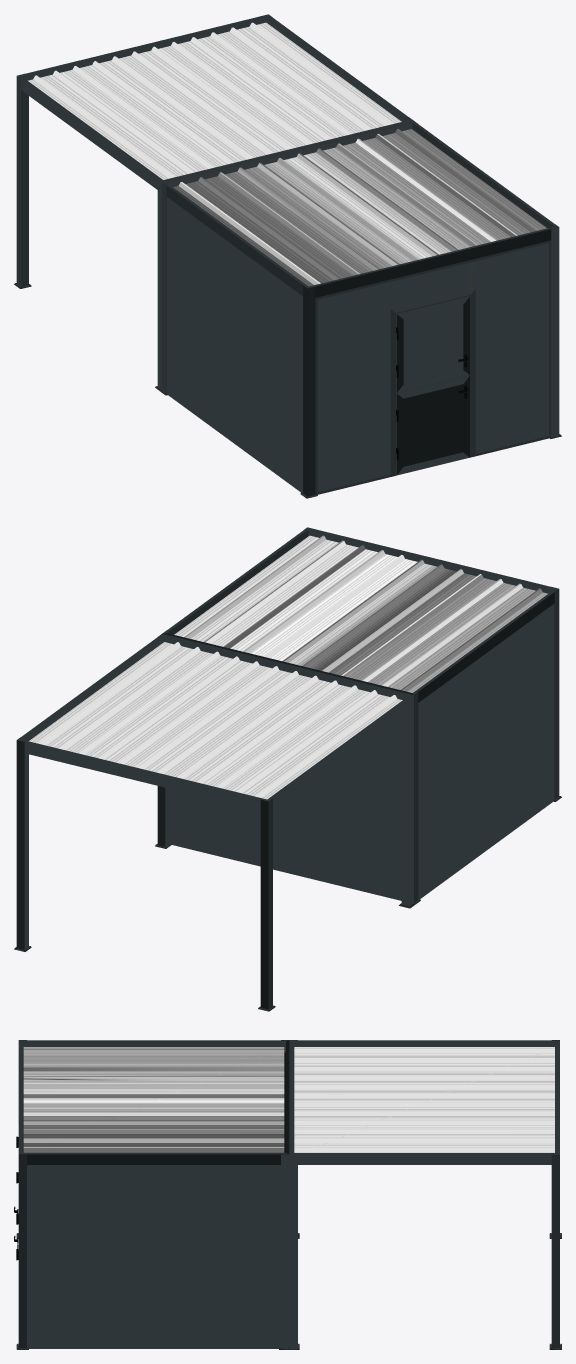
File: 134444_carport3x3abri3x3.fbx
3 renders of one model, top to bottom at view 1: azimuth 30°, elevation 25°; view 2: azimuth 150°, elevation 25°; view 3: azimuth 270°, elevation 25°, orthographic. The views are drawn at different scales.
Parts seen in each view (by area): view 1: priximbattable_net_box_a_cheval_13444_module_carport_box_che, folhabaixo, folhacima, porta; view 2: priximbattable_net_box_a_cheval_13444_module_carport_box_che; view 3: priximbattable_net_box_a_cheval_13444_module_carport_box_che.
Part boxes in pixels (box(x1,y1,x2,y2)): priximbattable_net_box_a_cheval_13444_module_carport_box_che: box(14, 14, 561, 498); folhabaixo: box(396, 375, 469, 475); folhacima: box(396, 296, 469, 392); porta: box(390, 288, 475, 476); priximbattable_net_box_a_cheval_13444_module_carport_box_che: box(14, 527, 561, 1011); priximbattable_net_box_a_cheval_13444_module_carport_box_che: box(16, 1040, 561, 1349).
Size of the model in its own units: 324 by 254 by 648.
Materials: 1 (1 with a texture image).
